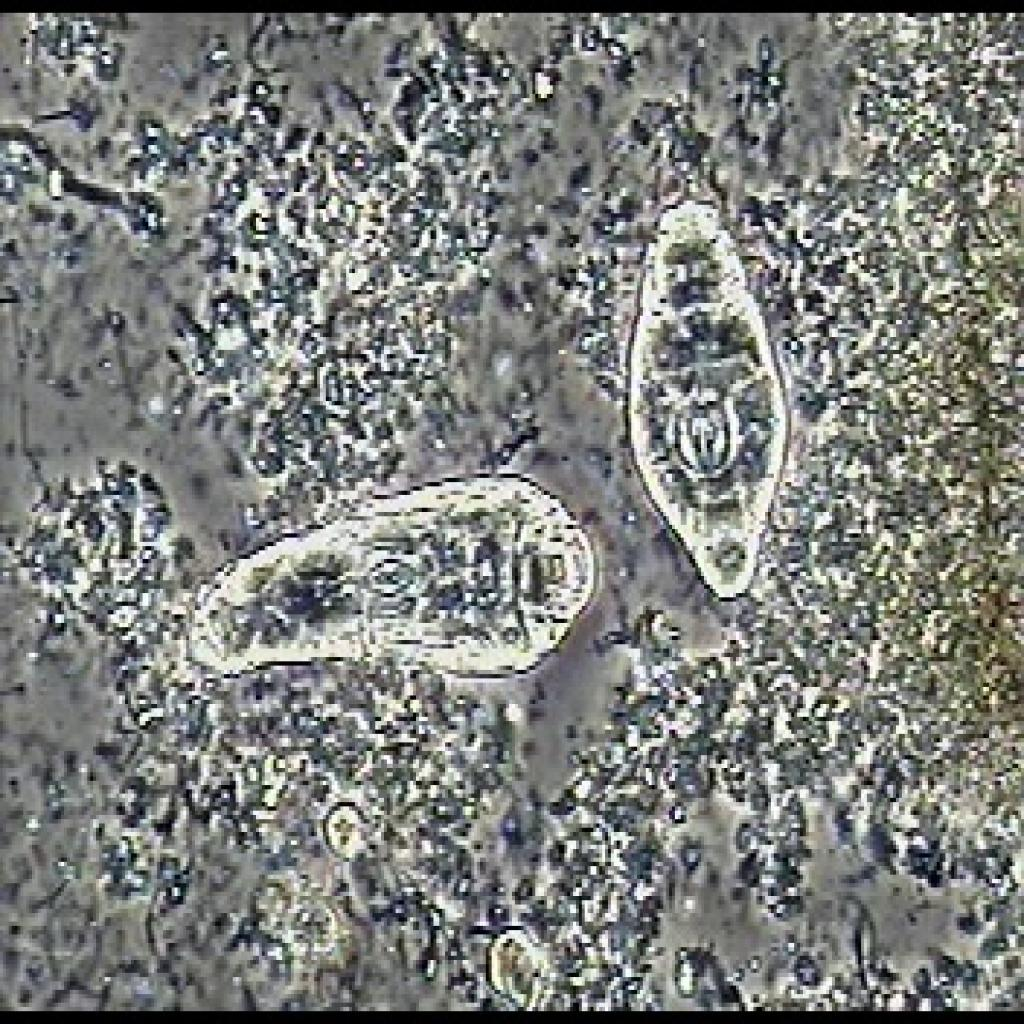Rotatoria: (142, 457, 596, 721), (621, 128, 793, 640)
